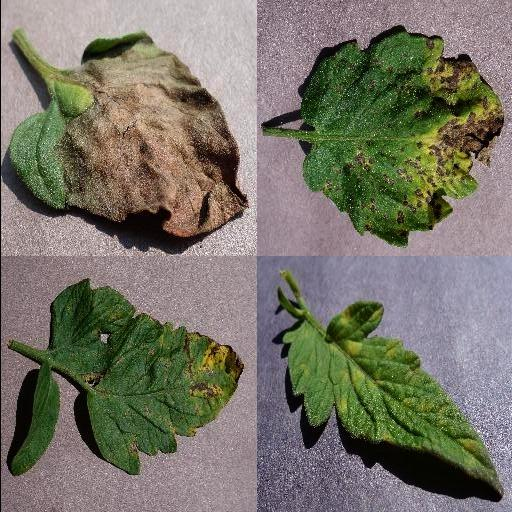Late Blight: (10, 30, 248, 238)
Leaf Mold: (279, 301, 503, 495)
Septoria: (297, 29, 503, 247), (48, 282, 242, 480)
